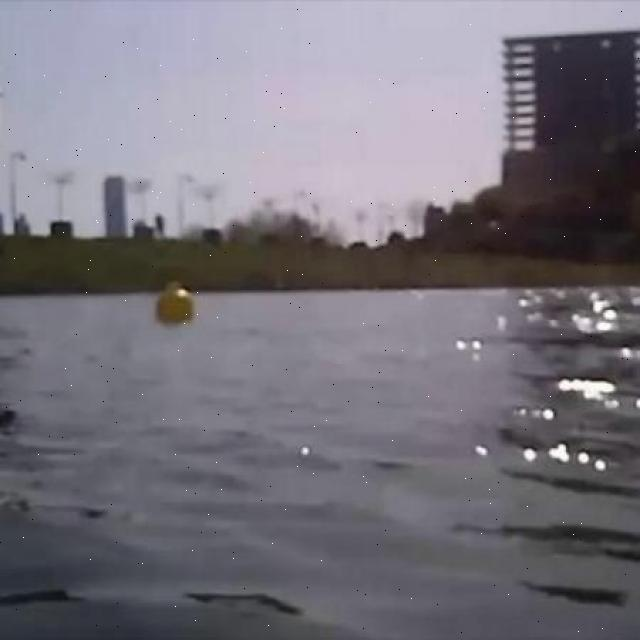buoy: (154, 282, 196, 322)
